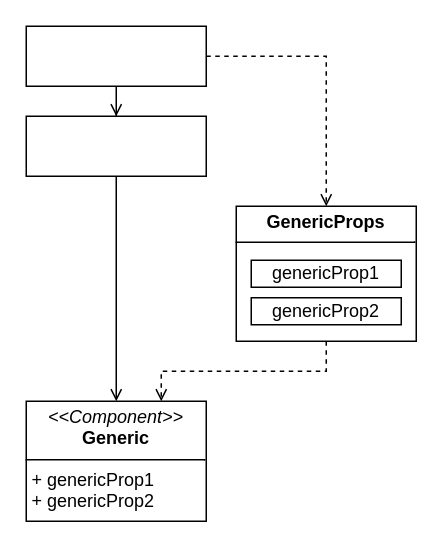
Image size: 443x548. Some labels were removed from this diagram. The shapes that lost their labels are listed below. From the top down, each one's centre as x and y in pixels, then its label:
At pixel 115 55: "<<Component>> Consumer".
At pixel 115 145: "<<Component>> Connected".
